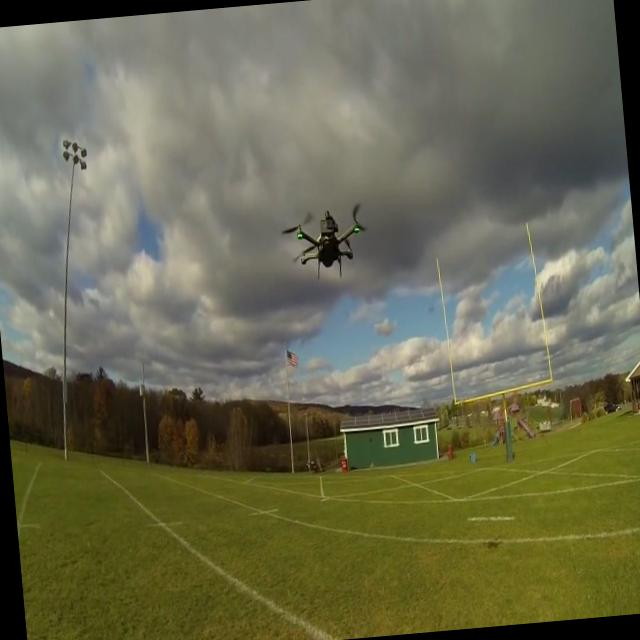drone: (277, 198, 373, 286)
